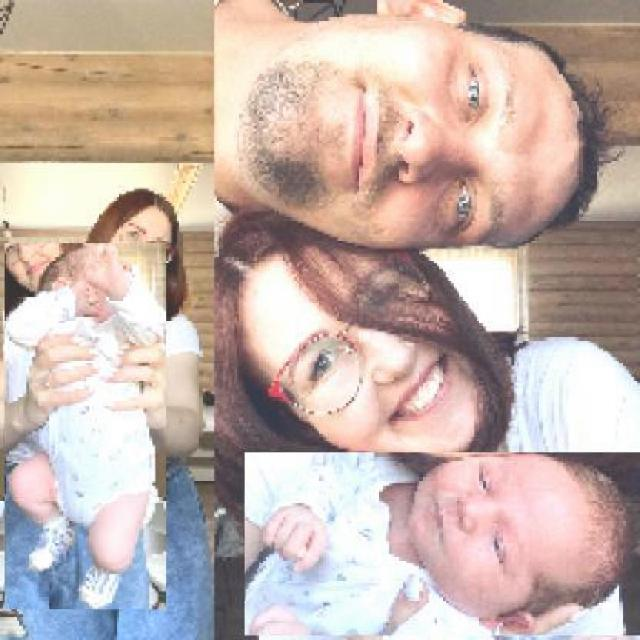child: (243, 452, 640, 637), (3, 243, 166, 611)
